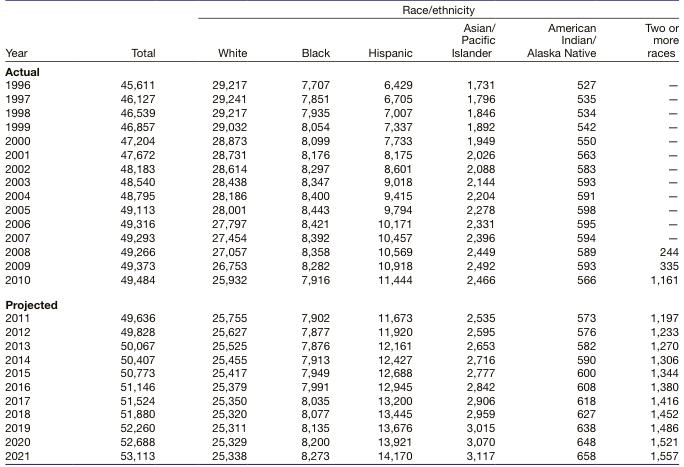table: (4, 3, 678, 461)
table column: (510, 3, 619, 461), (74, 3, 182, 461), (182, 3, 273, 461), (348, 3, 431, 461), (431, 3, 510, 461), (273, 3, 348, 461), (4, 3, 74, 461), (619, 3, 678, 461)
table column header: (4, 3, 678, 62)
table projected row header: (4, 291, 678, 311), (4, 62, 678, 78)
table row: (4, 18, 678, 62), (4, 291, 678, 311), (4, 272, 678, 291), (4, 62, 678, 78), (4, 3, 678, 18), (4, 78, 678, 92), (4, 105, 678, 119), (4, 119, 678, 133), (4, 133, 678, 147), (4, 147, 678, 161), (4, 161, 678, 175), (4, 175, 678, 189), (4, 189, 678, 203), (4, 203, 678, 217), (4, 230, 678, 244), (4, 244, 678, 258), (4, 258, 678, 272), (4, 311, 678, 325), (4, 338, 678, 352), (4, 352, 678, 366), (4, 379, 678, 393), (4, 393, 678, 407), (4, 407, 678, 421), (4, 434, 678, 448), (4, 92, 678, 105), (4, 217, 678, 230), (4, 325, 678, 338), (4, 366, 678, 379), (4, 421, 678, 434), (4, 448, 678, 461)
table spanning cell: (182, 3, 678, 18), (74, 3, 182, 62), (4, 3, 74, 62)
